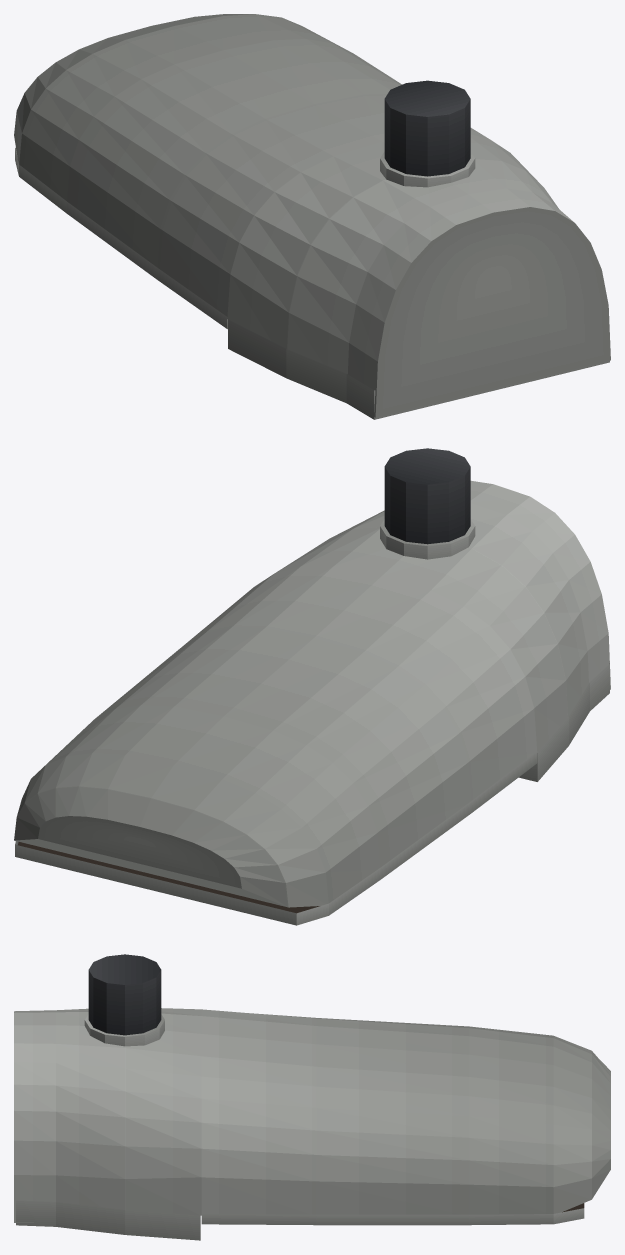
The model's file is streetlight_aeatb0.obj.
The picture shows the model from 3 angles, top to bottom: view 1: azimuth 30°, elevation 25°; view 2: azimuth 150°, elevation 25°; view 3: azimuth 270°, elevation 25°; orthographic projection. The views are drawn at different scales.
Visible parts, largest first — view 1: fixture; view 2: fixture; view 3: fixture.
Part boxes in pixels (bbox=[...]): fixture: bbox=[14, 14, 610, 419]; fixture: bbox=[14, 448, 610, 925]; fixture: bbox=[14, 954, 610, 1240].
Size of the model in its own units: 0.5 by 0.3731 by 0.975.
